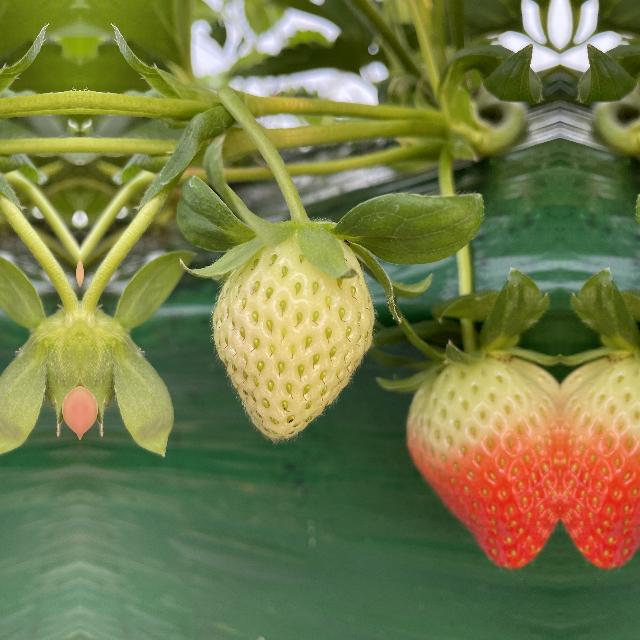Health_25: (205, 222, 383, 440)
